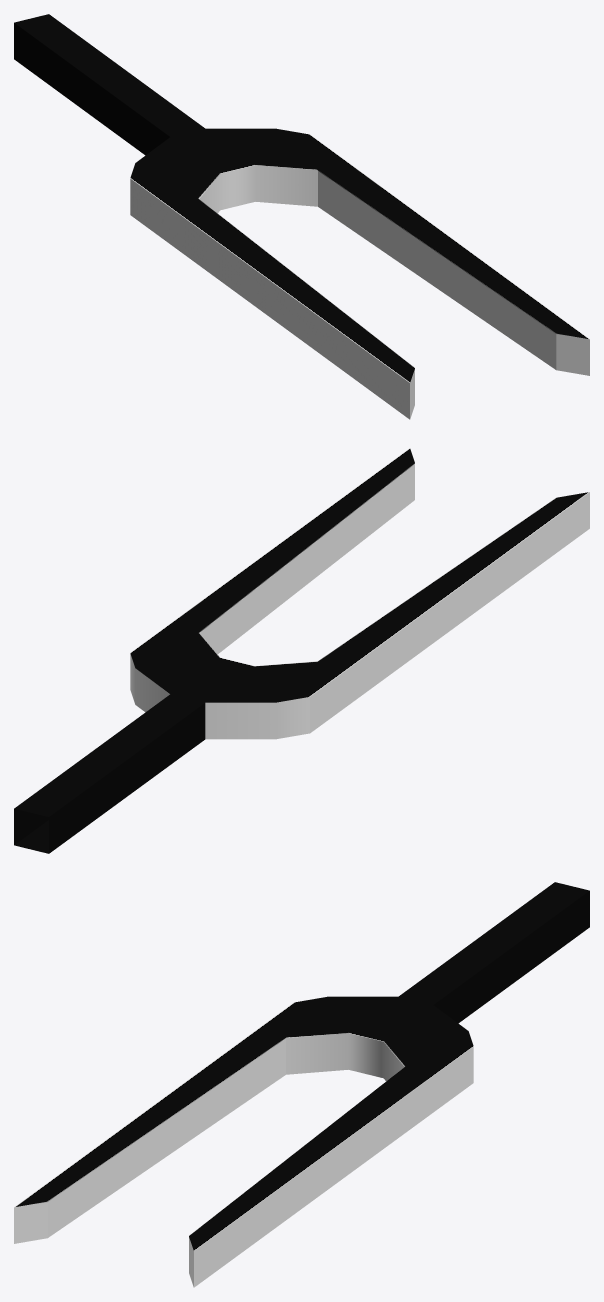
File: ammoFork_mesh.fbx
The picture shows the model from 3 angles, top to bottom: view 1: azimuth 30°, elevation 25°; view 2: azimuth 150°, elevation 25°; view 3: azimuth 330°, elevation 25°; orthographic projection.
Parts seen in each view (by area): view 1: ammoFork_mesh01; view 2: ammoFork_mesh01; view 3: ammoFork_mesh01.
Part boxes in pixels (<box>): ammoFork_mesh01: <box>14,14,589,419</box>; ammoFork_mesh01: <box>14,448,589,853</box>; ammoFork_mesh01: <box>14,882,589,1287</box>.
Bounding box in the file's own units: 33.21 × 6.46 × 150.
